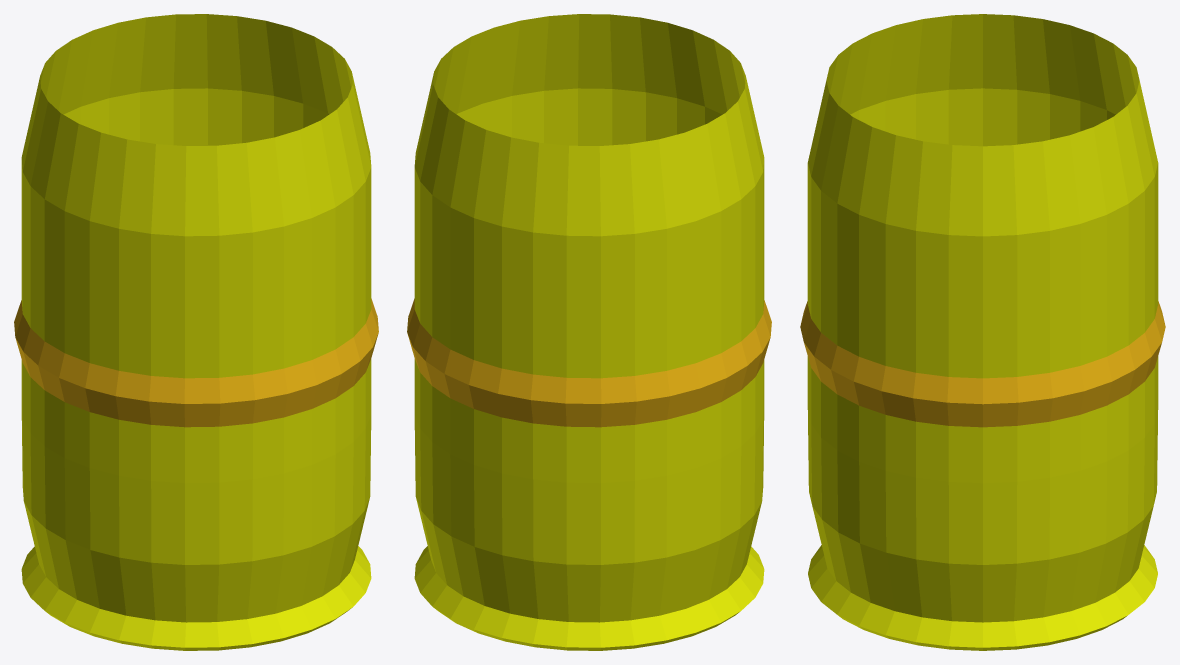
The model's file is cuboamarillo1.glb.
3 renders of one model, left to right at view 1: azimuth 30°, elevation 25°; view 2: azimuth 150°, elevation 25°; view 3: azimuth 270°, elevation 25°, orthographic.
Parts seen in each view (by area): view 1: Cylinder; view 2: Cylinder; view 3: Cylinder.
Part boxes in pixels (x1,y1,x2,y2): Cylinder: [14, 14, 378, 650]; Cylinder: [407, 14, 771, 650]; Cylinder: [800, 14, 1165, 650].
Size of the model in its own units: 2.09 by 3.15 by 2.09.
